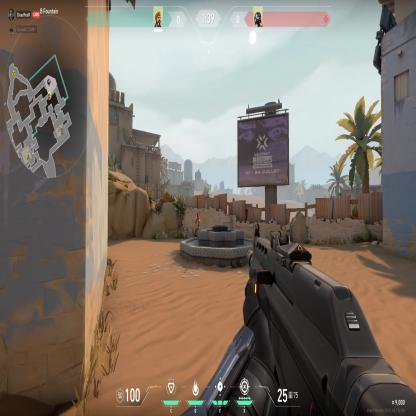enemy: (194, 211, 201, 230)
